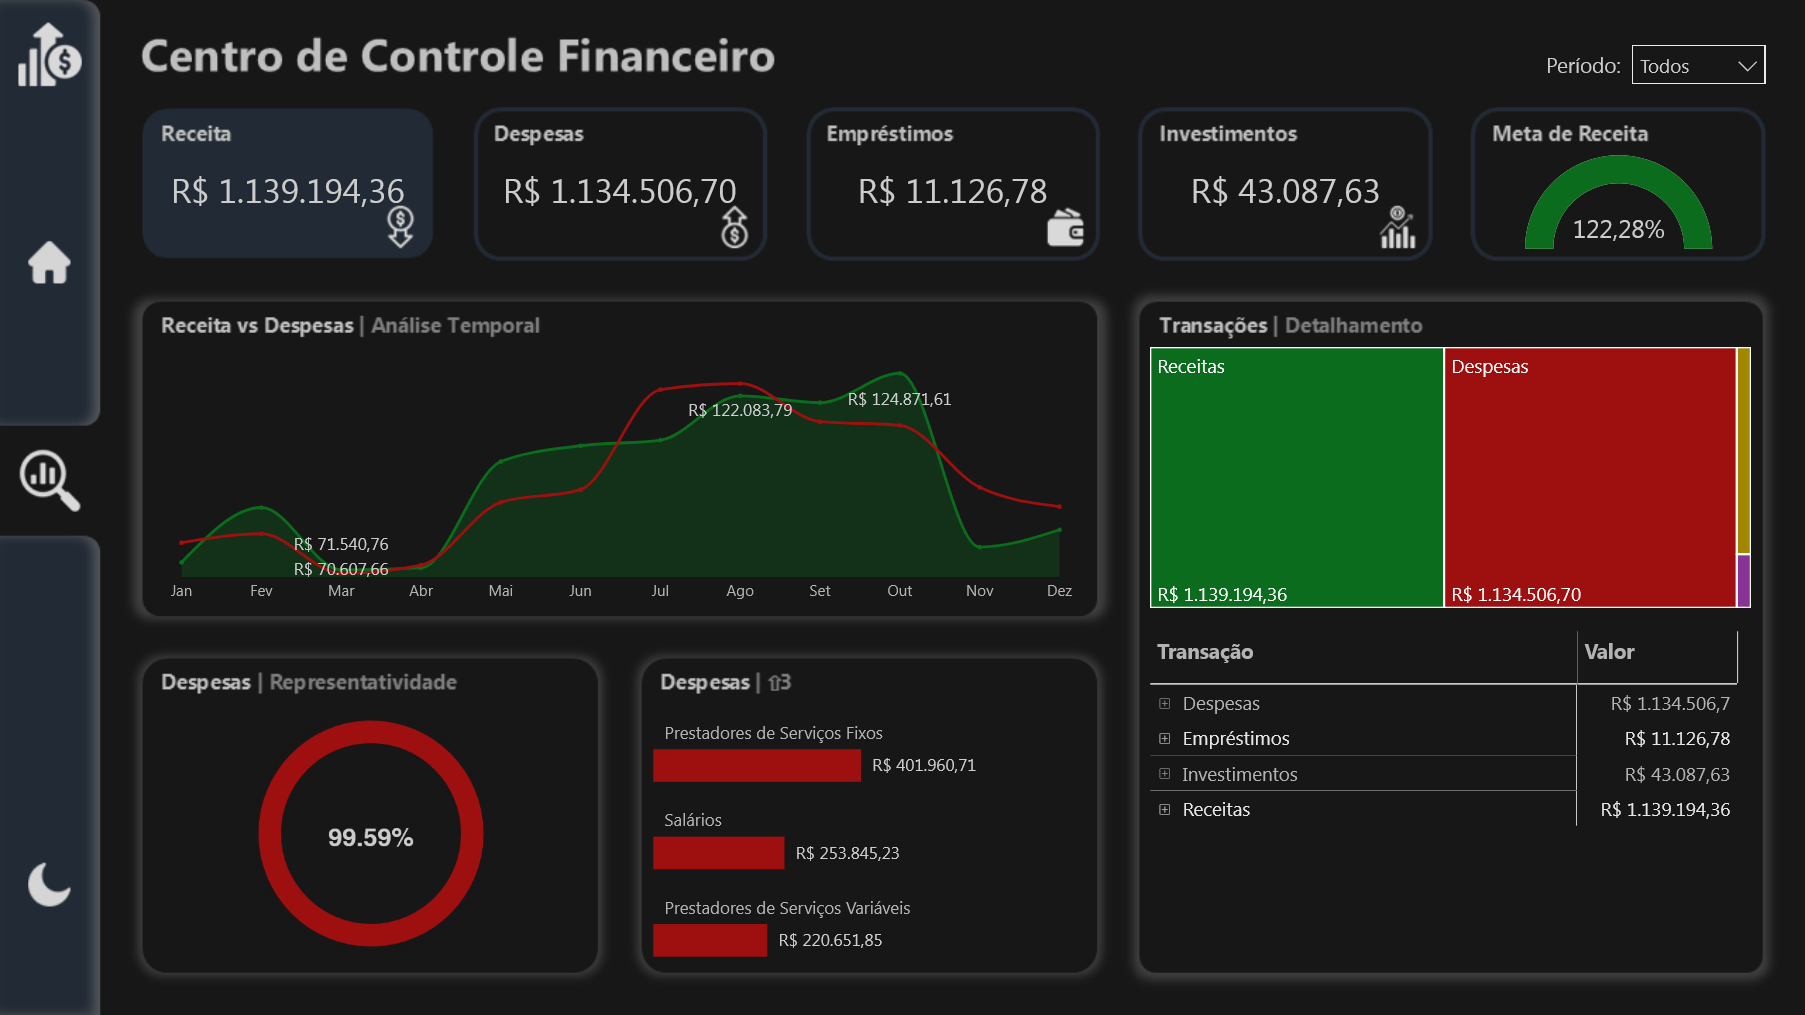

This screenshot's page, from the dashboard's own definition file:
{"tool":"powerbi","page":{"name":"Análise Dark","canvas":[1280,720],"ordinal":1},"visuals":[{"type":"cardVisual","fields":{"Data":["Medidas.ReceitaTotal"]},"box":[102,102,204,62],"z":0},{"type":"cardVisual","fields":{"Data":["Medidas.DespesaTotal"]},"box":[338,102,204,62],"z":1000},{"type":"cardVisual","fields":{"Data":["Medidas.Emprestimos"]},"box":[574,102,204,62],"z":2000},{"type":"cardVisual","fields":{"Data":["Medidas.Investimentos"]},"box":[810,102,204,62],"z":3000},{"type":"slicer","fields":{"Values":["dCalendario.ano"]},"box":[1148.2,22.7,112.9,46.3],"z":4000},{"type":"areaChart","title":"Receita por Período","fields":{"Category":["dCalendario.mes_abreviado"],"Y":["Medidas.ReceitaTotal","Medidas.Despesa"]},"box":[102,238.4,676.1,198],"z":5000},{"type":"clusteredBarChart","title":"Principais Despesas","fields":{"Category":["Financeiro.Detalhe"],"Y":["Medidas.Título Principais Despesas","Medidas.DespesaTotal"]},"box":[455.7,492,322.4,197.6],"z":6000},{"type":"textbox","box":[1091.8,30.6,65.9,31.4],"z":7000},{"type":"pivotTable","fields":{"Rows":["fFinanceiro.Transação","fFinanceiro.Grupo"],"Values":["Medidas.Transações"]},"box":[808,440,442,254],"z":8000},{"type":"treemap","fields":{"Group":["fFinanceiro.Transação"],"Values":["Medidas.Transações"]},"box":[808,238.4,442,200.8],"z":9000},{"type":"gauge","fields":{"TargetValue":["Medidas.Meta Atingida Receita"],"Y":["Medidas.Meta Máxima Receita"]},"box":[1046,102,204,82.4],"z":10000},{"type":"payPalKPIDonutChart55A431AB15A540ED924ACD72ED8D259F","fields":{"myvalue":["Medidas.% Despesas"]},"box":[102,492,322,198],"z":11000},{"type":"actionButton","box":[14.6,166,40,40],"z":12000},{"type":"actionButton","box":[14.9,608,40,40],"z":13000}]}

Visuals, with their boxes on the page's 1280x720 design canvas (x1, y1, x2, y2). These are canvas units, not pixel positions in the 1805x1015 screenshot, which may show the page scaled, cropped or inside an application window:
cardVisual - Medidas.ReceitaTotal: x1=102 y1=102 x2=306 y2=164
cardVisual - Medidas.DespesaTotal: x1=338 y1=102 x2=542 y2=164
cardVisual - Medidas.Emprestimos: x1=574 y1=102 x2=778 y2=164
cardVisual - Medidas.Investimentos: x1=810 y1=102 x2=1014 y2=164
slicer - dCalendario.ano: x1=1148 y1=23 x2=1261 y2=69
"Receita por Período" areaChart: x1=102 y1=238 x2=778 y2=436
"Principais Despesas" clusteredBarChart: x1=456 y1=492 x2=778 y2=690
textbox: x1=1092 y1=31 x2=1158 y2=62
pivotTable - fFinanceiro.Transação x fFinanceiro.Grupo: x1=808 y1=440 x2=1250 y2=694
treemap - fFinanceiro.Transação x Medidas.Transações: x1=808 y1=238 x2=1250 y2=439
gauge - Medidas.Meta Atingida Receita x Medidas.Meta Máxima Receita: x1=1046 y1=102 x2=1250 y2=184
payPalKPIDonutChart55A431AB15A540ED924ACD72ED8D259F - Medidas.% Despesas: x1=102 y1=492 x2=424 y2=690
actionButton: x1=15 y1=166 x2=55 y2=206
actionButton: x1=15 y1=608 x2=55 y2=648
